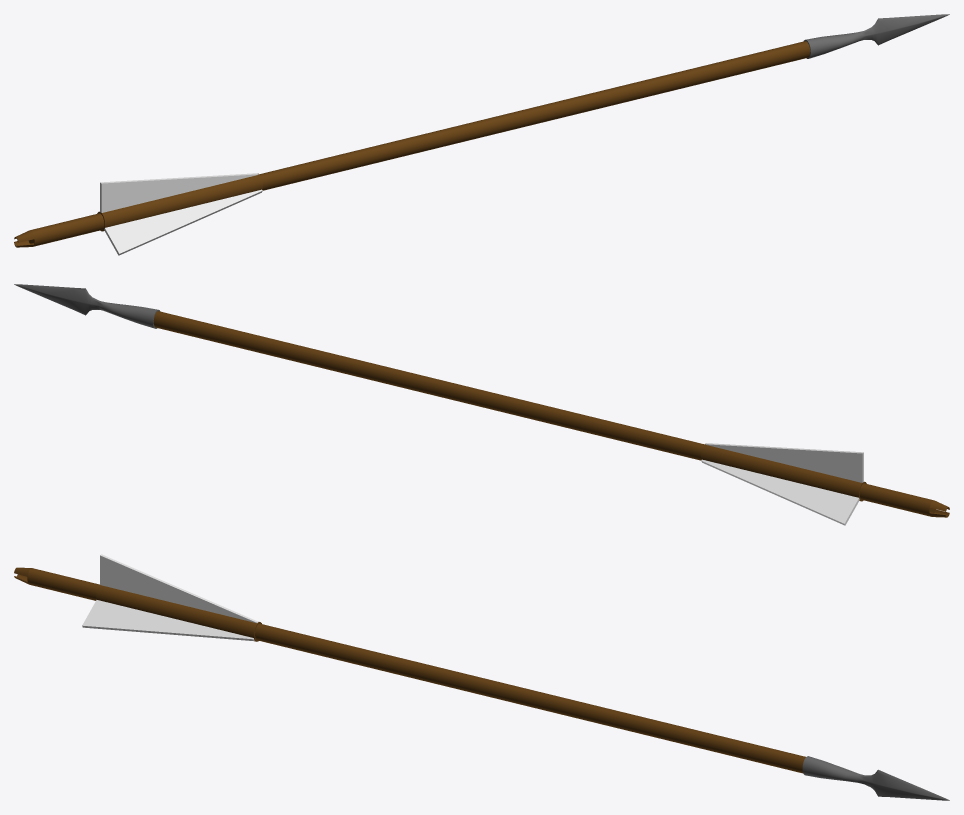
Rendered from Base_Arrow.fbx.
The picture shows the model from 3 angles, top to bottom: view 1: azimuth 30°, elevation 25°; view 2: azimuth 150°, elevation 25°; view 3: azimuth 330°, elevation 25°; orthographic projection.
Visible parts, largest first — view 1: Roundcube.003; view 2: Roundcube.003; view 3: Roundcube.003.
Part boxes in pixels (<box>): Roundcube.003: <box>14,14,949,255</box>; Roundcube.003: <box>14,284,949,525</box>; Roundcube.003: <box>14,554,949,800</box>.
Bounding box in the file's own units: 325 × 19.92 × 22.56.
